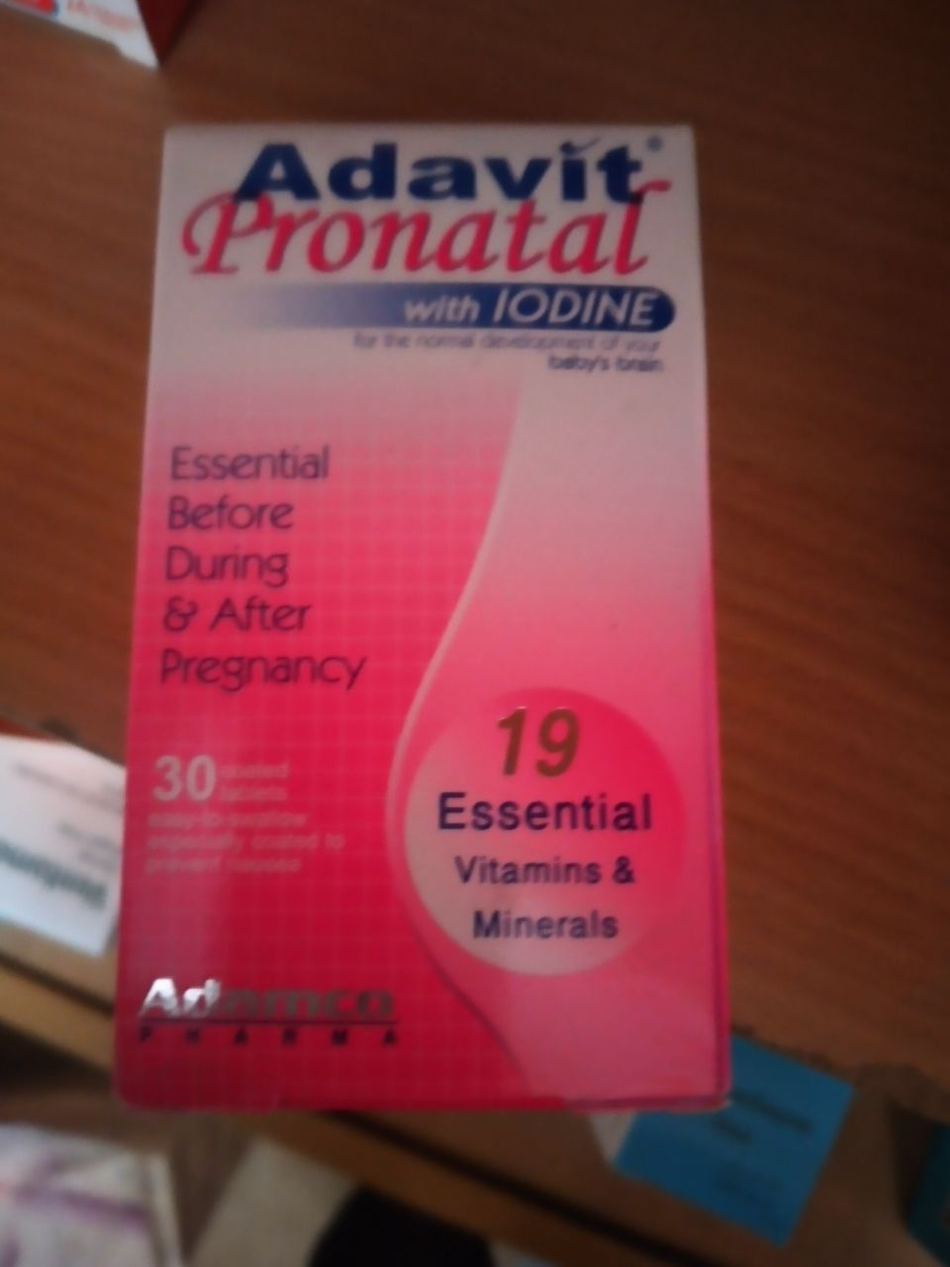Medicine: (102, 92, 742, 1125), (594, 1043, 841, 1267)
